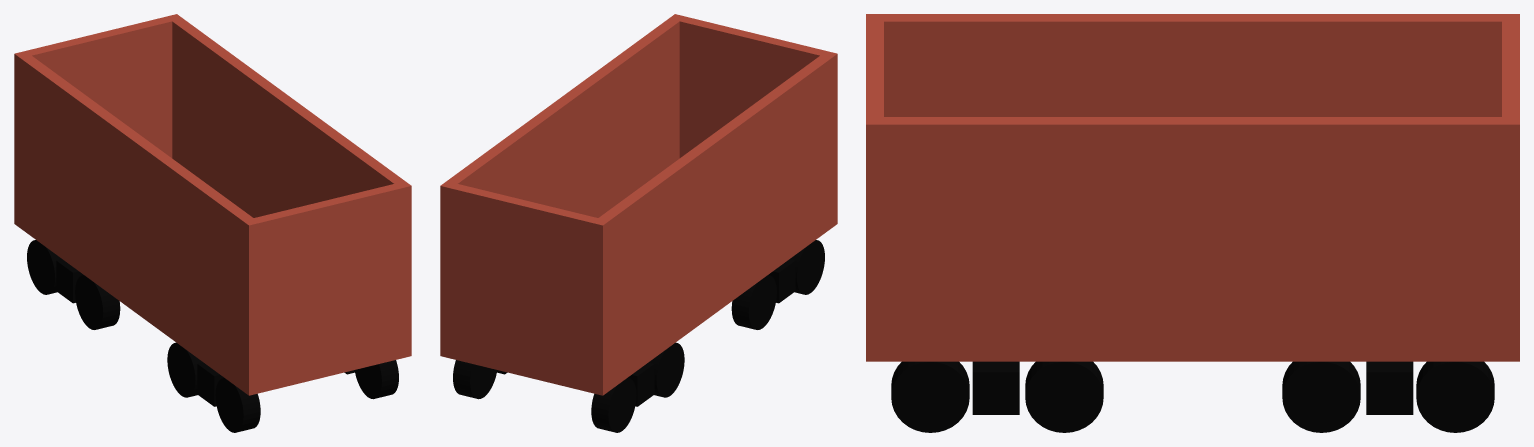
The model's file is car_no_texture.glb.
3 renders of one model, left to right at view 1: azimuth 30°, elevation 25°; view 2: azimuth 150°, elevation 25°; view 3: azimuth 270°, elevation 25°, orthographic. The views are drawn at different scales.
Parts seen in each view (by area): view 1: Car; view 2: Car; view 3: Car.
Boxes of the visible parts, x1,y1,x2,y2 form: Car: (14, 14, 411, 432); Car: (440, 14, 837, 432); Car: (866, 14, 1519, 432).
Size of the model in its own units: 2 by 2.62 by 5.
